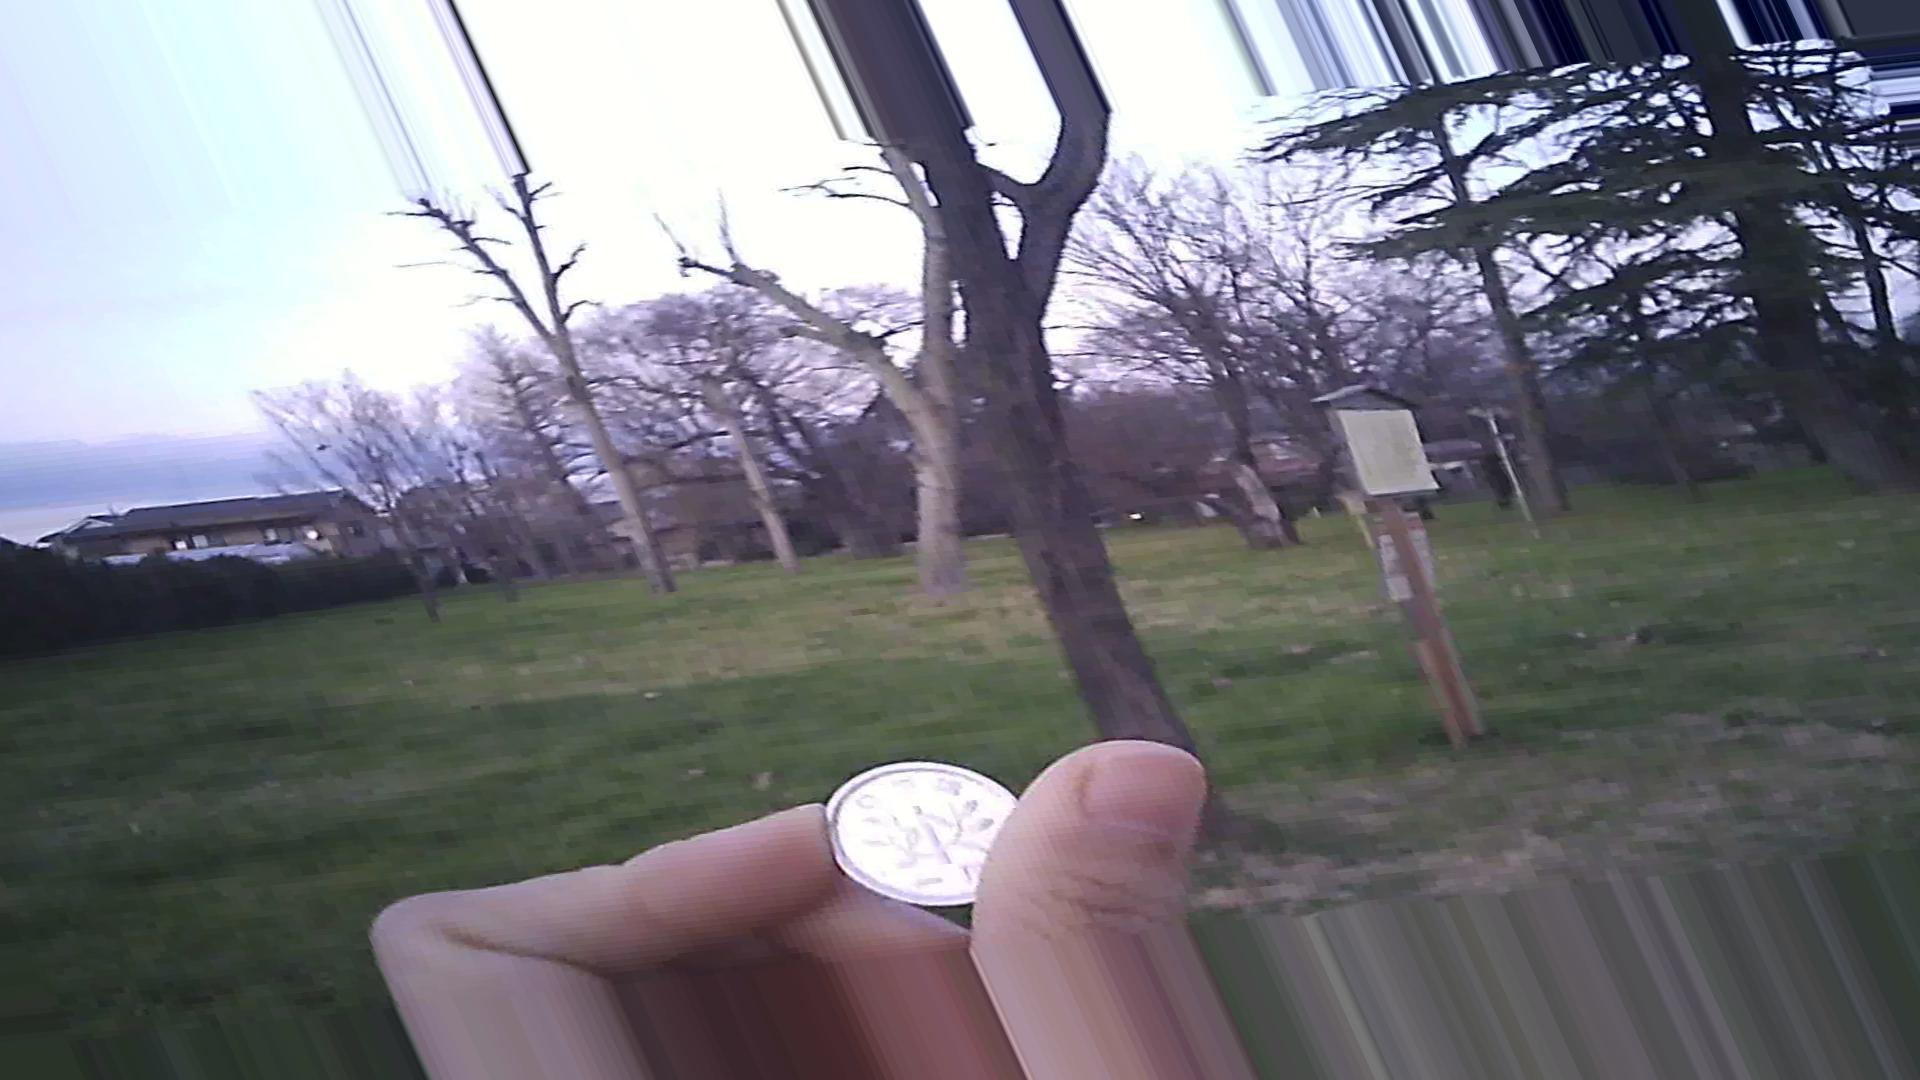1 Yen: (820, 761, 1036, 913)
